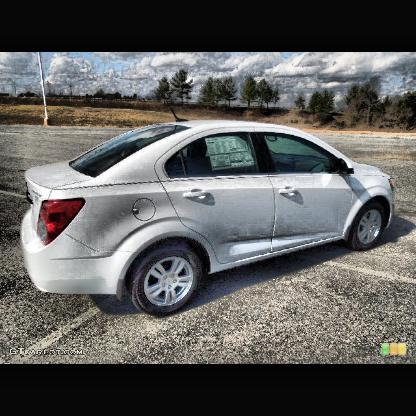Chevrolet Sonic Sedan 2012: (14, 95, 402, 319)
